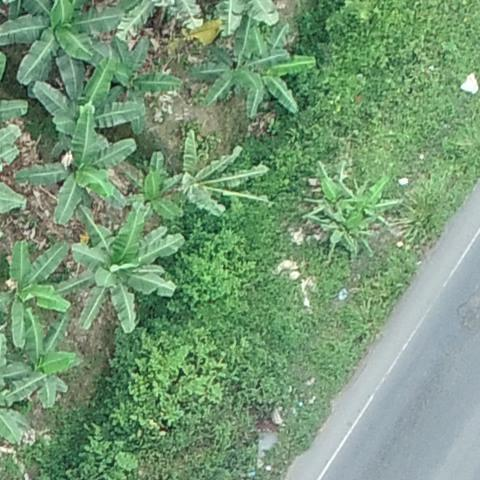Banana-plant: (54, 214, 182, 333), (0, 0, 124, 99), (19, 115, 137, 219), (34, 50, 143, 140), (195, 20, 289, 111), (0, 239, 73, 346), (181, 130, 264, 216)
